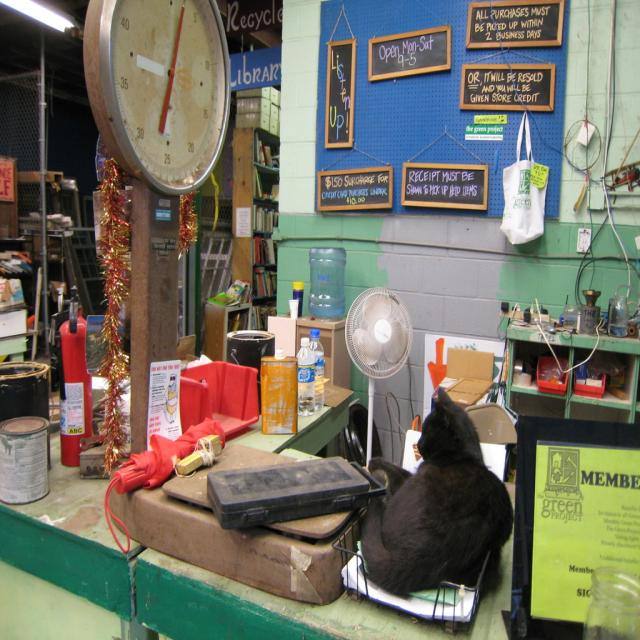Cat: (359, 389, 515, 591)
